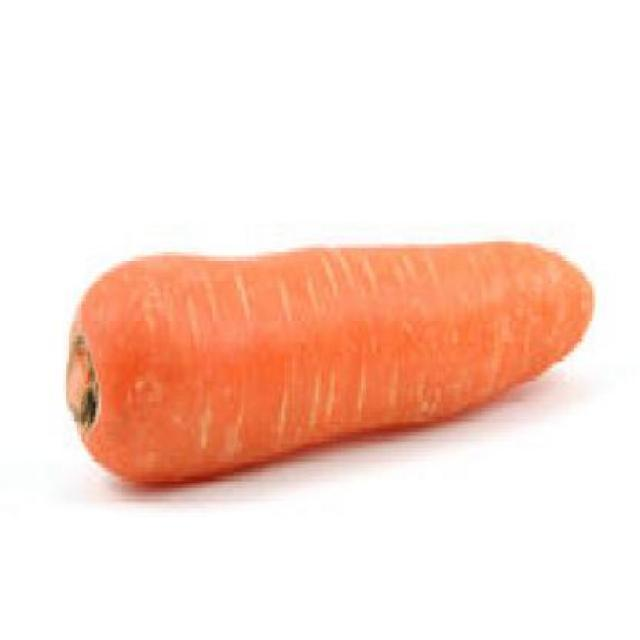carrot: (61, 236, 594, 496)
